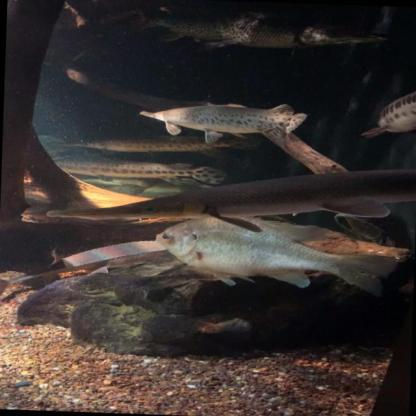fish: (43, 152, 416, 235), (148, 211, 401, 299), (113, 4, 393, 56), (134, 96, 310, 150), (44, 128, 282, 164), (39, 154, 235, 190), (357, 85, 415, 146)
